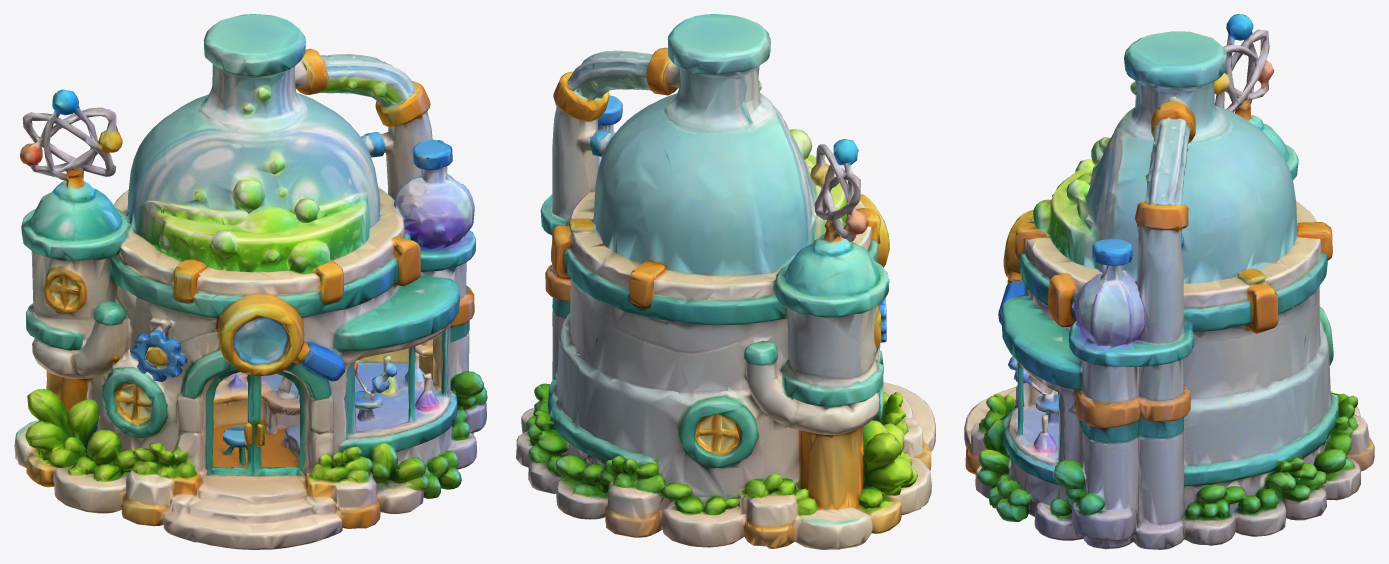
Rendered from b_lab.glb.
The picture shows the model from 3 angles, left to right: view 1: azimuth 30°, elevation 25°; view 2: azimuth 150°, elevation 25°; view 3: azimuth 270°, elevation 25°; orthographic projection. The views are drawn at different scales.
Size of the model in its own units: 0.9919 by 1 by 0.8884.
1 material, 1 textured.
